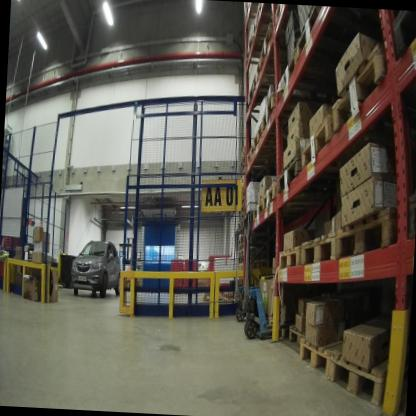forklift: (117, 229, 147, 288)
pallet: (326, 329, 407, 416), (326, 40, 386, 136), (298, 114, 386, 177), (276, 145, 369, 204), (289, 329, 382, 382), (331, 198, 403, 261), (292, 7, 356, 62), (273, 51, 338, 105), (261, 179, 330, 219), (253, 50, 295, 93), (383, 11, 416, 64), (257, 92, 299, 132), (299, 222, 333, 270), (259, 20, 293, 66), (286, 324, 338, 353), (246, 76, 282, 116), (250, 4, 288, 37), (240, 32, 274, 68), (251, 117, 290, 147), (244, 143, 281, 165), (272, 4, 307, 25), (274, 240, 300, 268), (252, 194, 267, 232), (203, 287, 225, 303), (237, 170, 251, 187), (220, 298, 236, 309), (223, 288, 234, 302), (237, 162, 246, 178), (237, 193, 246, 209), (237, 206, 245, 223), (235, 233, 246, 245), (239, 144, 248, 158), (240, 181, 248, 196), (236, 226, 246, 238), (236, 242, 245, 255), (238, 152, 244, 169), (236, 222, 247, 231), (235, 251, 244, 261), (235, 264, 244, 274), (235, 278, 243, 285)
pallet_truck: (238, 206, 293, 351), (232, 223, 253, 327)
